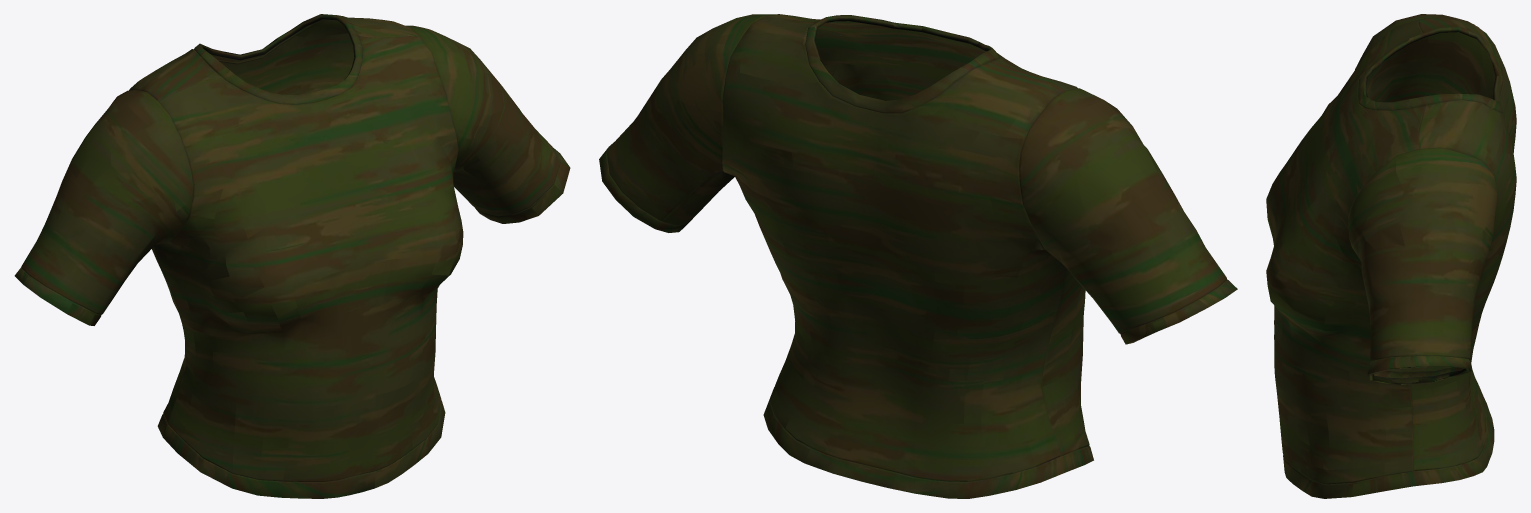
Rendered from drednicolson-short-tail-camo-tee.glb.
The picture shows the model from 3 angles, left to right: view 1: azimuth 30°, elevation 25°; view 2: azimuth 150°, elevation 25°; view 3: azimuth 270°, elevation 25°; orthographic projection. The views are drawn at different scales.
Visible parts, largest first — view 1: short-tail camo tee; view 2: short-tail camo tee; view 3: short-tail camo tee.
Boxes of the visible parts, left/top/right/bottom form: short-tail camo tee: left=14, top=14, right=570, bottom=498; short-tail camo tee: left=599, top=14, right=1237, bottom=498; short-tail camo tee: left=1266, top=14, right=1516, bottom=498.
Size of the model in its own units: 61.29 by 43.47 by 24.48.
Materials: 1 (1 with a texture image).
